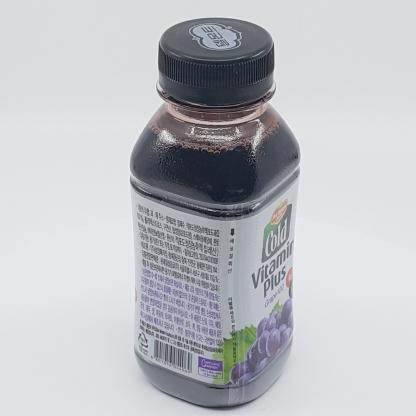---------------240ML: (130, 17, 301, 407)
